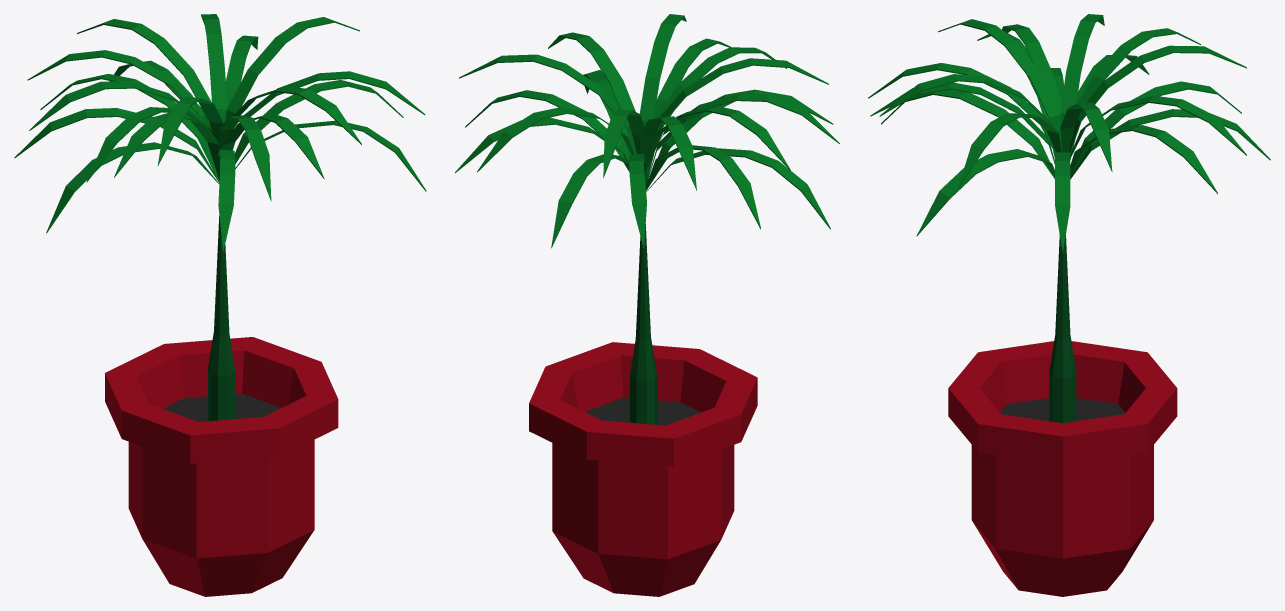
File: Plant_Kitchen_Plant_231109.glb
The picture shows the model from 3 angles, left to right: view 1: azimuth 30°, elevation 25°; view 2: azimuth 150°, elevation 25°; view 3: azimuth 270°, elevation 25°; orthographic projection. The views are drawn at different scales.
Parts seen in each view (by area): view 1: Kitchen_Plant; view 2: Kitchen_Plant; view 3: Kitchen_Plant.
Boxes of the visible parts, box(x1,y1,x2,y2) form: Kitchen_Plant: box(14, 14, 426, 596); Kitchen_Plant: box(455, 14, 839, 596); Kitchen_Plant: box(868, 14, 1270, 596).
Bounding box in the file's own units: 0.6808 × 0.9123 × 0.6553.
1 material, 1 textured.
